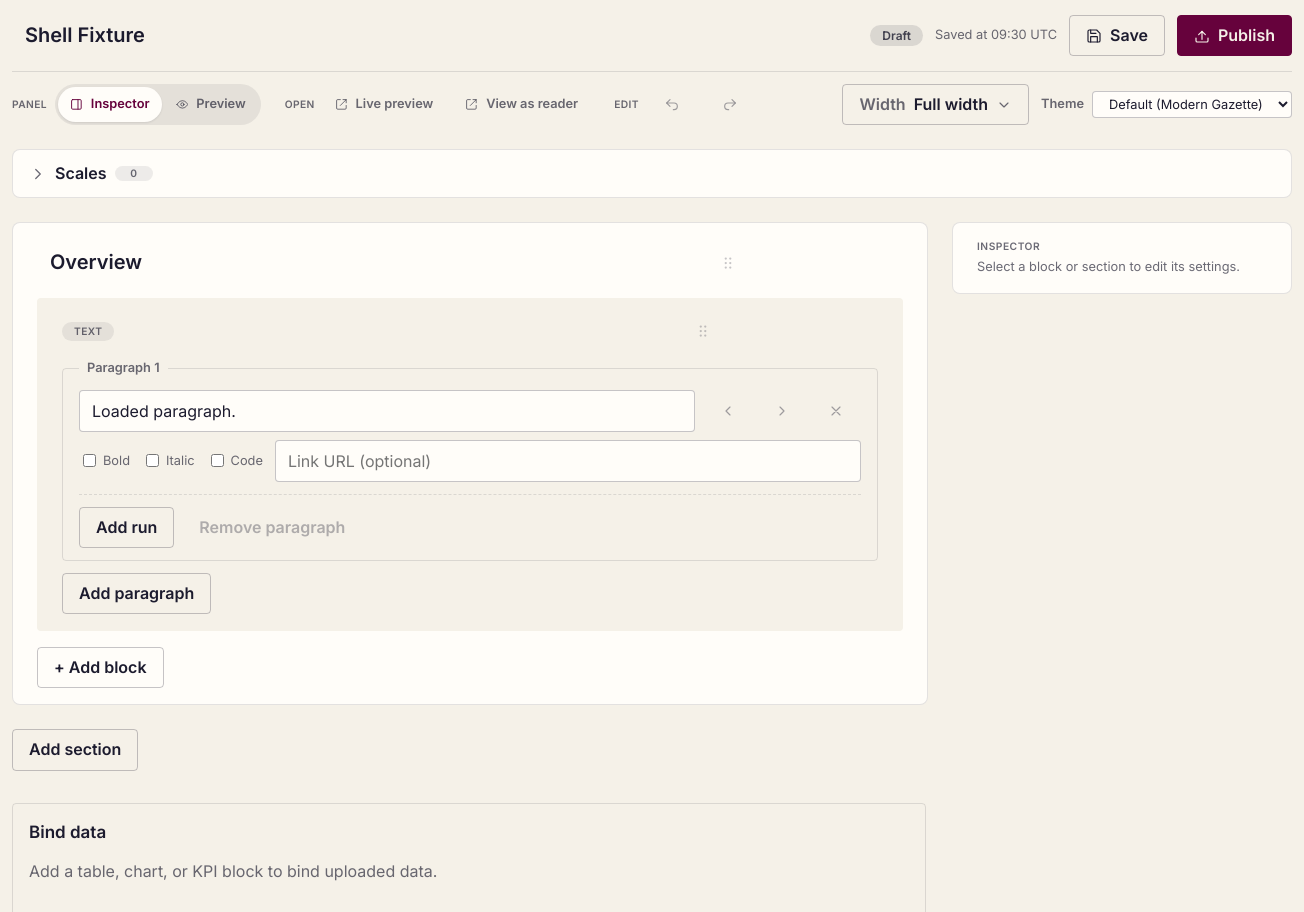
Test: ReportEditor shell › updates the live preview from the in-edit document as the author edits
Click the button "Preview" at (211, 105), box [164,87,258,122]
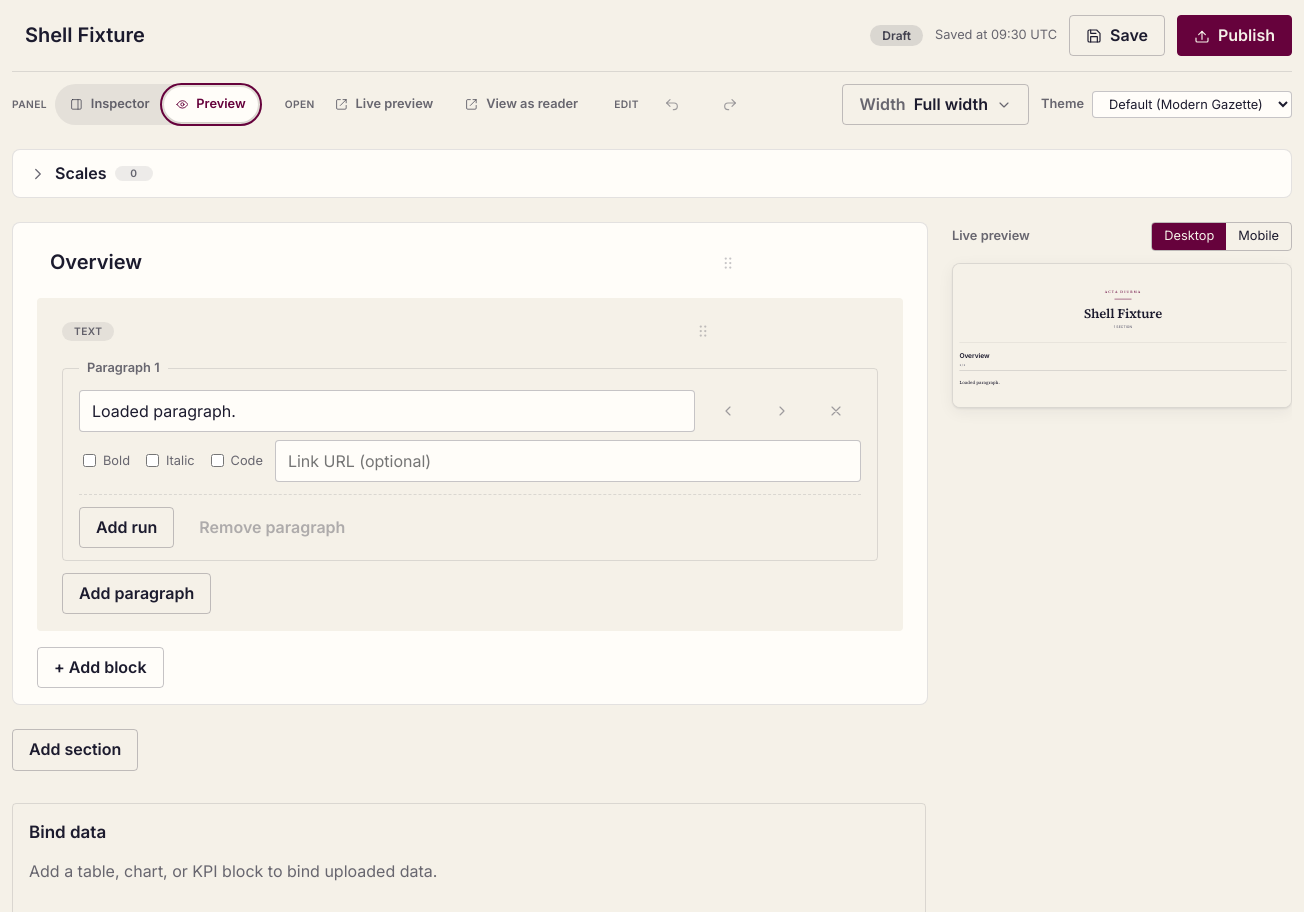
Replace the text in the field named "Report title" with "Renamed Report" at (435, 36), box [12,12,858,59]
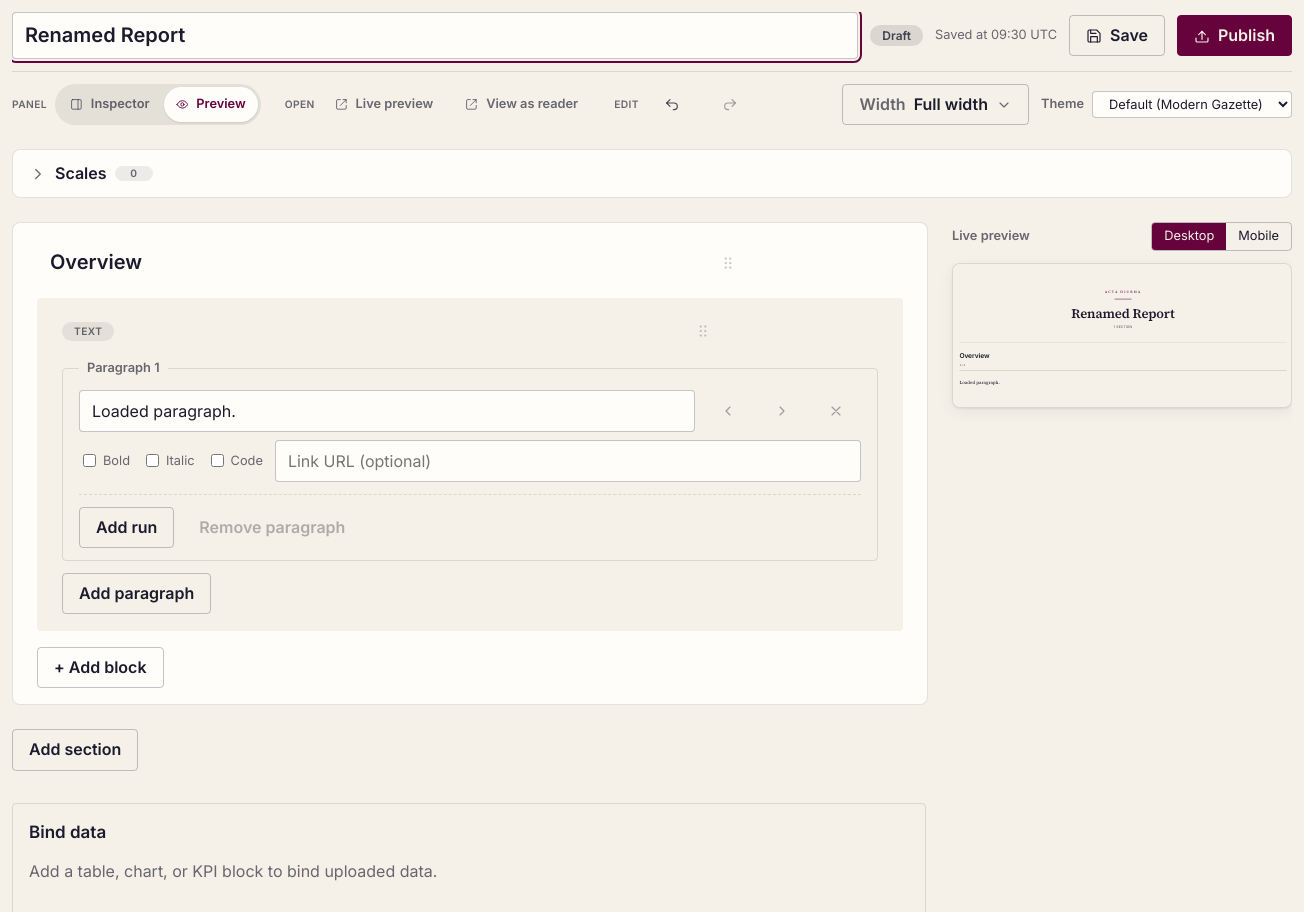
Now the heading "Renamed Report" is shown, box [1071,304,1175,322]
